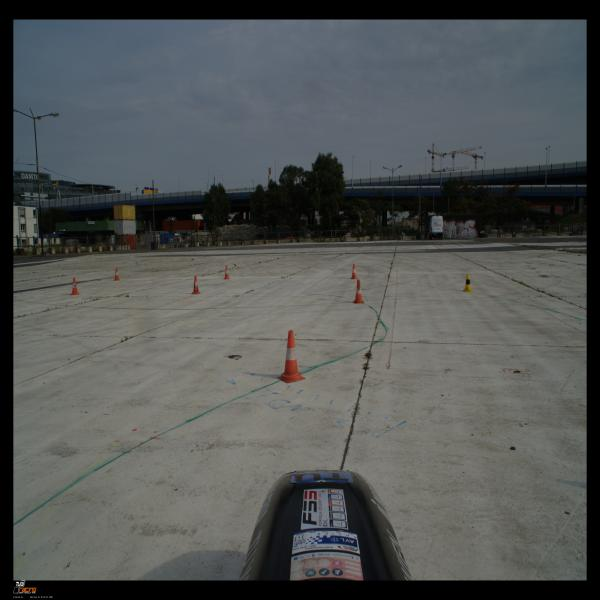orange_cone: (277, 330, 305, 383), (352, 280, 365, 304), (191, 276, 201, 294), (70, 278, 80, 295), (350, 264, 358, 279), (223, 266, 231, 280), (114, 268, 120, 280)
yellow_cone: (462, 274, 474, 292)
